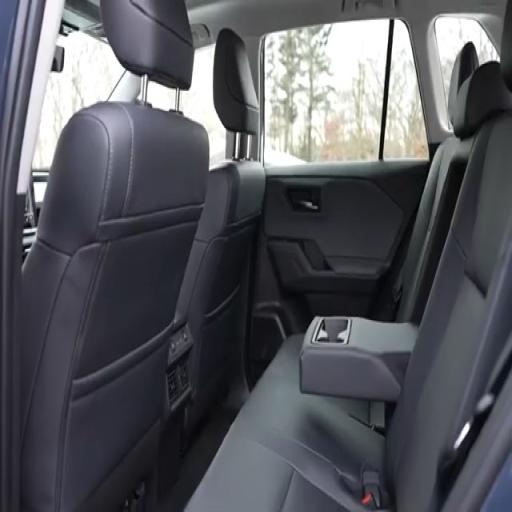side_mirror: (52, 46, 64, 72)
window: (264, 20, 427, 162), (33, 32, 123, 169), (435, 16, 499, 100), (180, 46, 225, 164)
